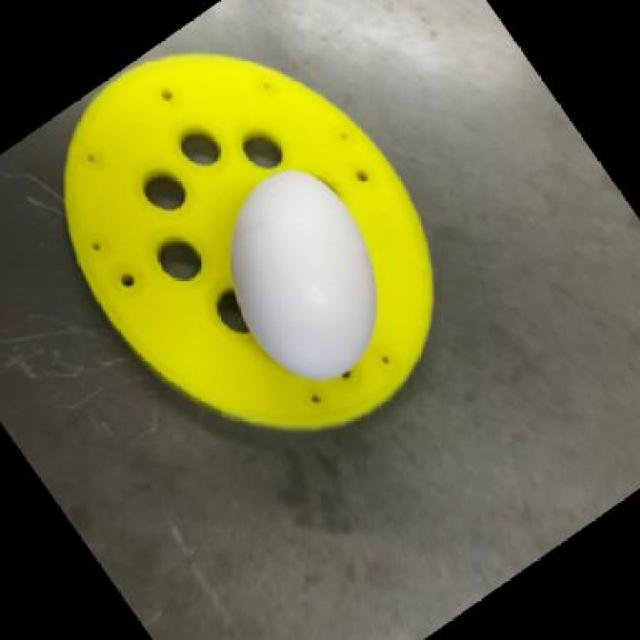egg: (224, 167, 378, 380)
